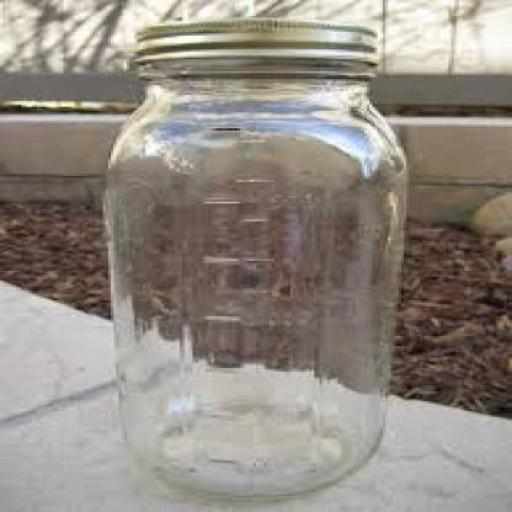glass: (101, 58, 404, 496)
metal: (129, 18, 372, 77)
